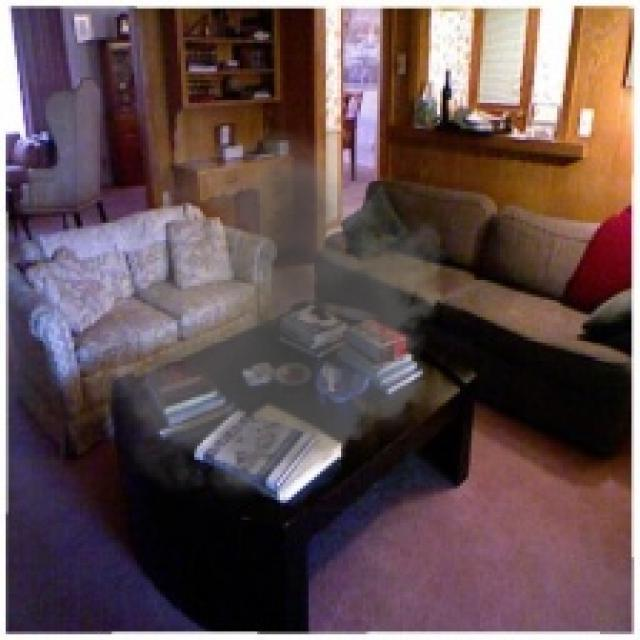Smoke: (68, 128, 463, 512)
